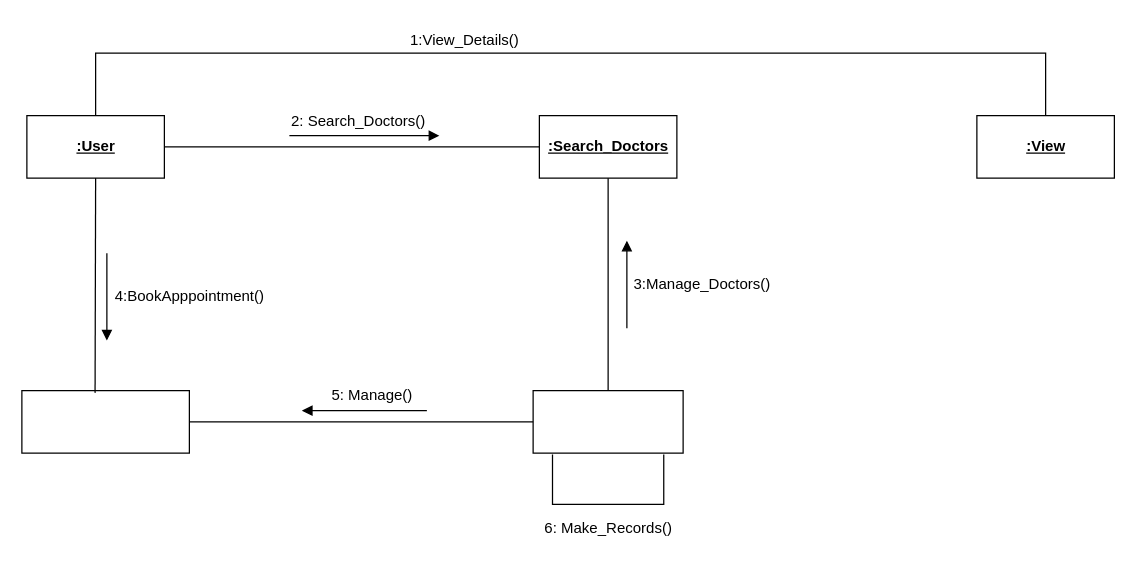
Some shapes in this 1136 by 568 pixel diagram are drawn without their labels. The centre of each missing label's shape, as x and y in pixels:
":BookingService" belongs at pixel 105 421.
":Receptionist" belongs at pixel 607 421.
